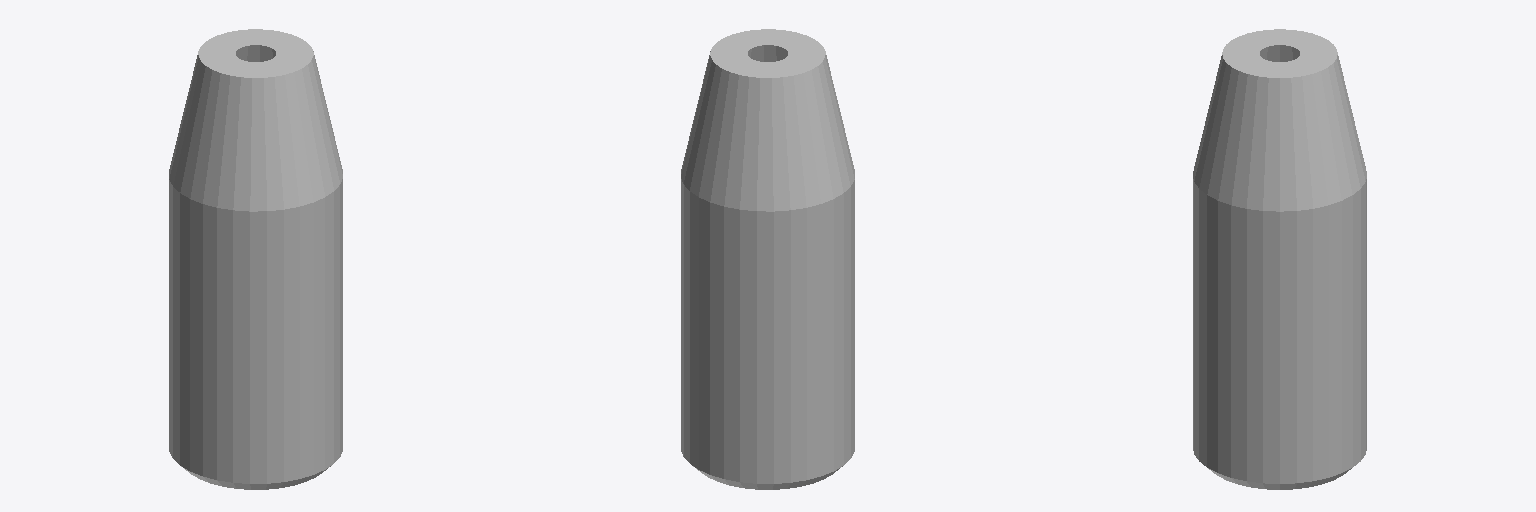
The model's file is fan_motor.obj.
3 views of the same model, side by side, from view 1: azimuth 30°, elevation 25°; view 2: azimuth 150°, elevation 25°; view 3: azimuth 270°, elevation 25° (orthographic).
Parts seen in each view (by area): view 1: fan_motor_Sphere.003; view 2: fan_motor_Sphere.003; view 3: fan_motor_Sphere.003.
Part boxes in pixels (left/top/right/bottom): fan_motor_Sphere.003: left=169, top=29, right=342, bottom=489; fan_motor_Sphere.003: left=681, top=29, right=854, bottom=489; fan_motor_Sphere.003: left=1193, top=29, right=1366, bottom=489.
Size of the model in its own units: 0.4321 by 1.1 by 0.4321.